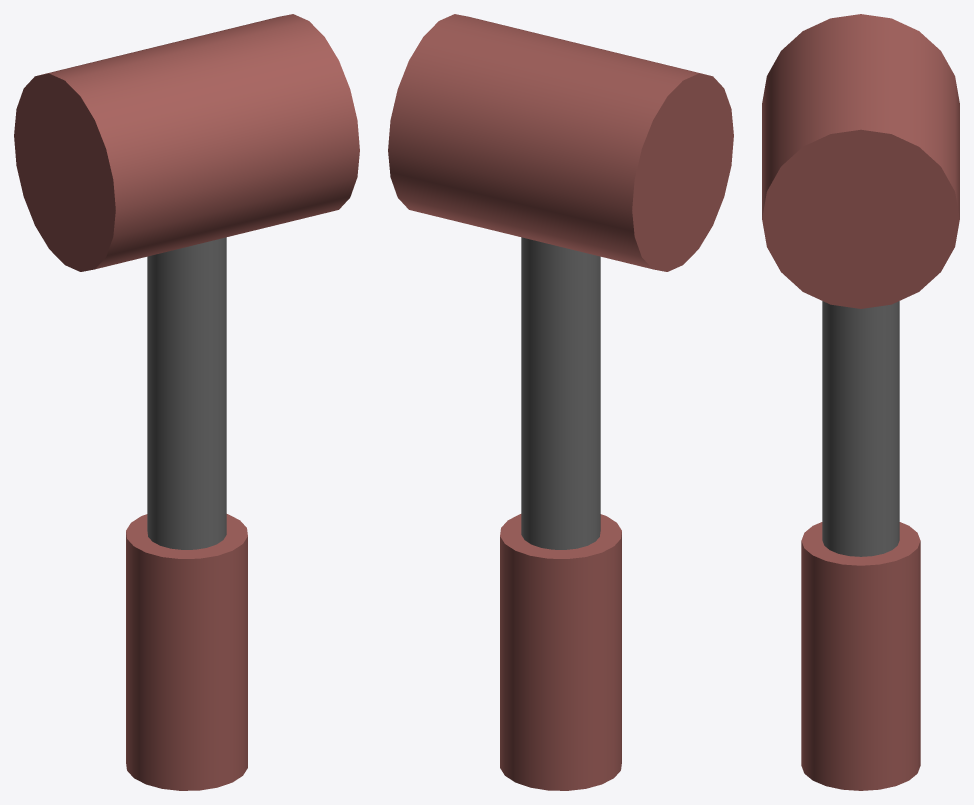
The model's file is Boardwalk_Booth_Strength_Test_Mallet.fbx.
3 views of the same model, side by side, from view 1: azimuth 30°, elevation 25°; view 2: azimuth 150°, elevation 25°; view 3: azimuth 270°, elevation 25° (orthographic). The views are drawn at different scales.
Visible parts, largest first — view 1: Mallet, Handle, Stick; view 2: Mallet, Handle, Stick; view 3: Mallet, Handle, Stick.
Boxes of the visible parts, x1,y1,x2,y2 form: Mallet: [14, 14, 359, 271]; Handle: [126, 514, 247, 790]; Stick: [147, 237, 226, 549]; Mallet: [388, 14, 733, 271]; Handle: [500, 514, 621, 790]; Stick: [521, 237, 600, 549]; Mallet: [762, 14, 959, 308]; Handle: [801, 522, 920, 790]; Stick: [822, 301, 899, 556].
Bounding box in the file's own units: 2.63 × 7.35 × 1.9.
